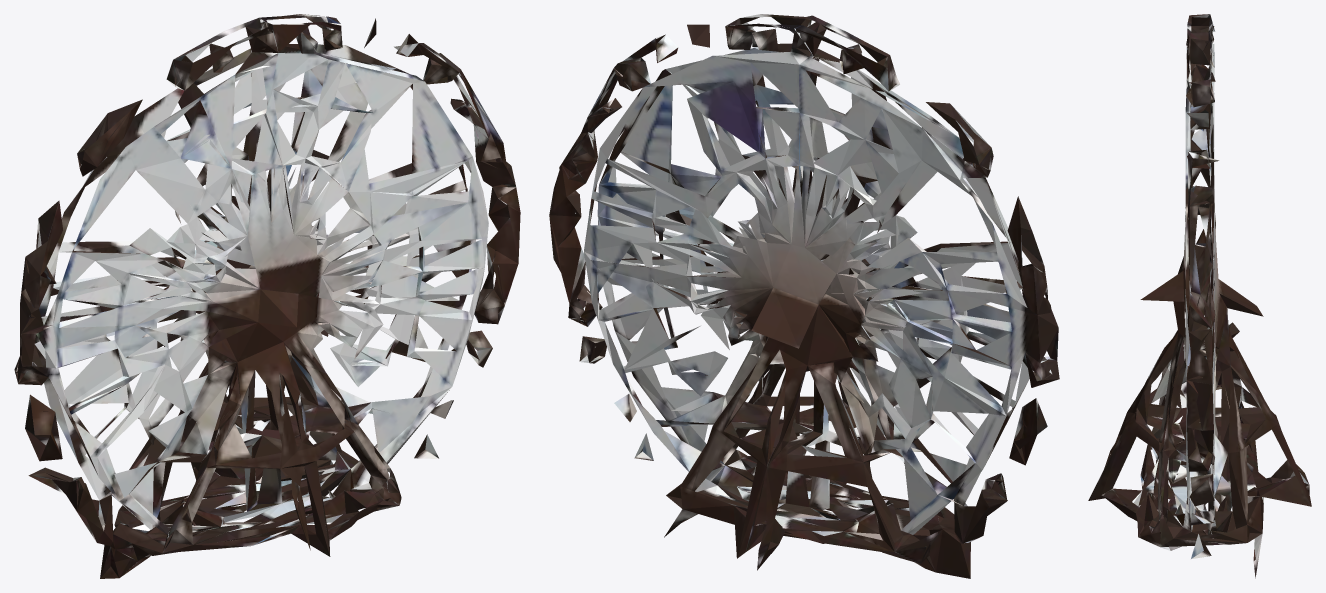
The model's file is noria.glb.
The picture shows the model from 3 angles, left to right: view 1: azimuth 30°, elevation 25°; view 2: azimuth 150°, elevation 25°; view 3: azimuth 270°, elevation 25°; orthographic projection. The views are drawn at different scales.
Visible parts, largest first — view 1: tmpd9npfp6n.ply; view 2: tmpd9npfp6n.ply; view 3: tmpd9npfp6n.ply.
Part boxes in pixels (x1,y1,x2,y2): tmpd9npfp6n.ply: (14, 14, 520, 578); tmpd9npfp6n.ply: (549, 14, 1059, 578); tmpd9npfp6n.ply: (1088, 14, 1311, 578).
Size of the model in its own units: 1.94 by 1.94 by 0.7953.
1 material, 1 textured.
